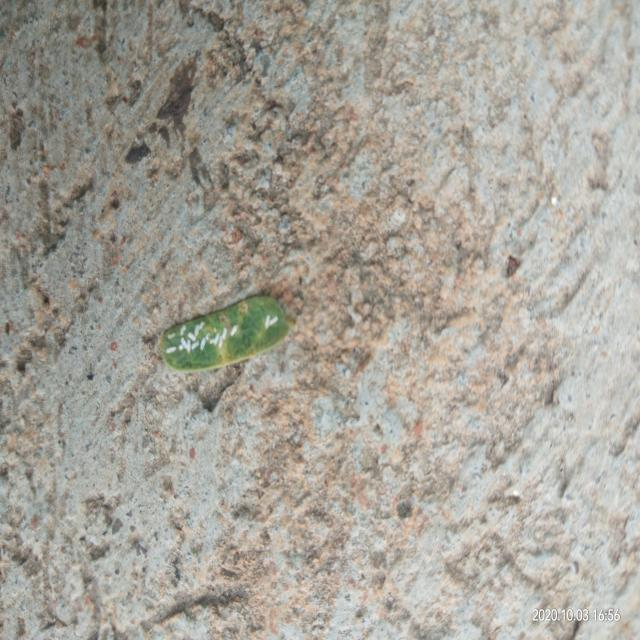defectedtamarind: (160, 312, 224, 370)
tamarind: (160, 297, 290, 372)
